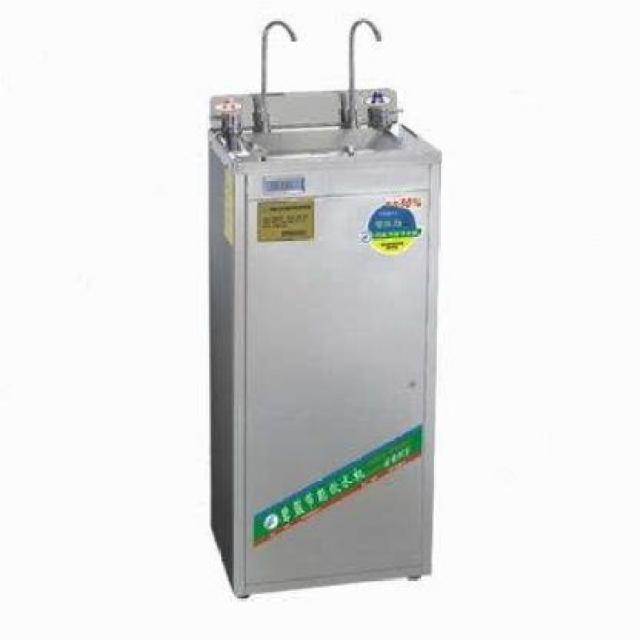cooler: (205, 12, 450, 610)
